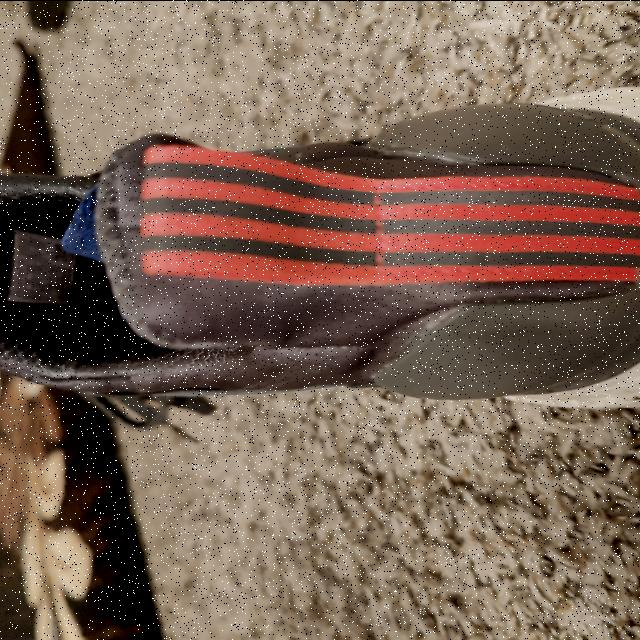black shoes: (0, 156, 640, 401)
